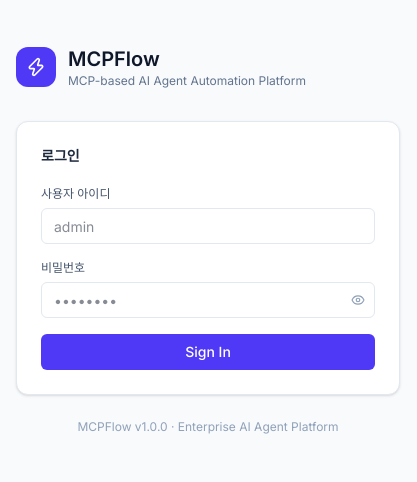
Scenario: Login screen › shows local validation for empty username/password
The width and height of the screenshot is (417, 482).
Click the button "Sign In": [208, 352] box [41,334,375,370]
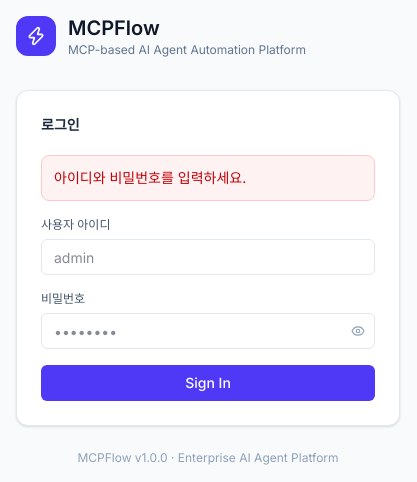
Check: the text "아이디와 비밀번호를 입력하세요." is shown, box [41,155,375,201]
